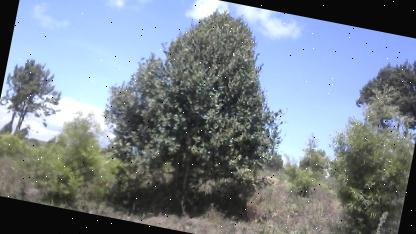tree: (84, 0, 307, 230)
